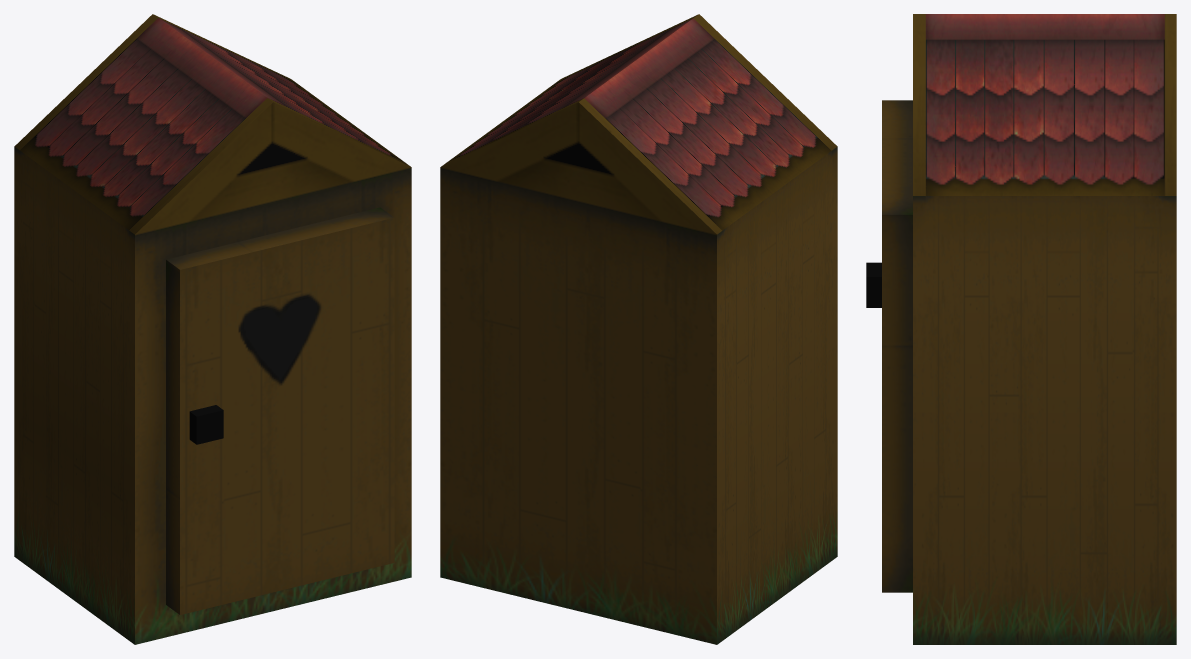
File: SM_Toiler.fbx
3 renders of one model, left to right at view 1: azimuth 30°, elevation 25°; view 2: azimuth 150°, elevation 25°; view 3: azimuth 270°, elevation 25°, orthographic. The views are drawn at different scales.
Visible parts, largest first — view 1: SM_Toilet; view 2: SM_Toilet; view 3: SM_Toilet.
Boxes of the visible parts, x1=… form: SM_Toilet: x1=14, y1=14, x2=411, y2=644; SM_Toilet: x1=440, y1=14, x2=837, y2=644; SM_Toilet: x1=866, y1=14, x2=1176, y2=644.
Size of the model in its own units: 365 by 641 by 324.
